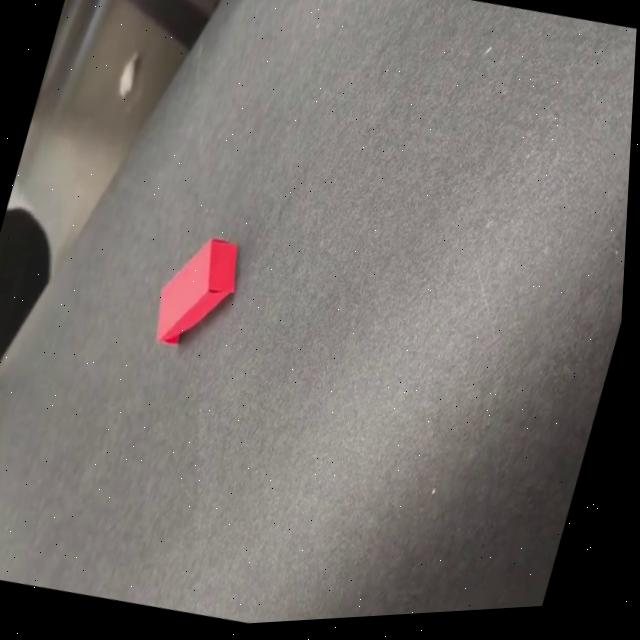red block: (145, 224, 249, 356)
